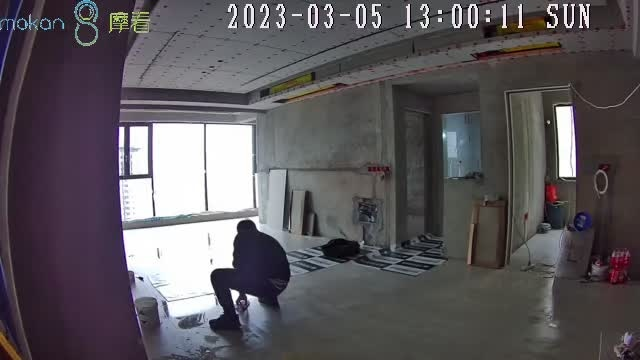people: (209, 219, 291, 331)
window: (116, 122, 257, 221)
